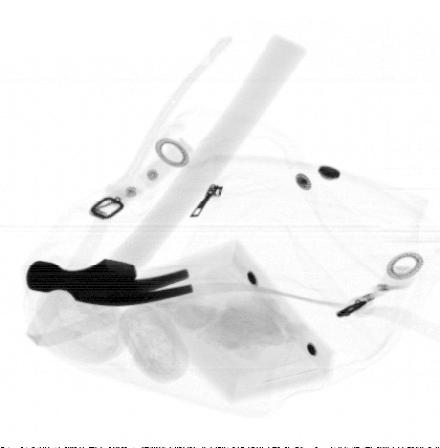Hammer: (25, 35, 308, 307)
